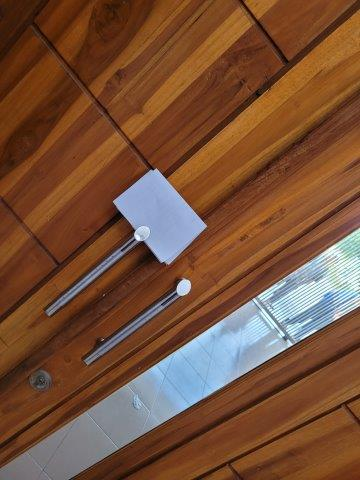kertas: (113, 166, 207, 262)
